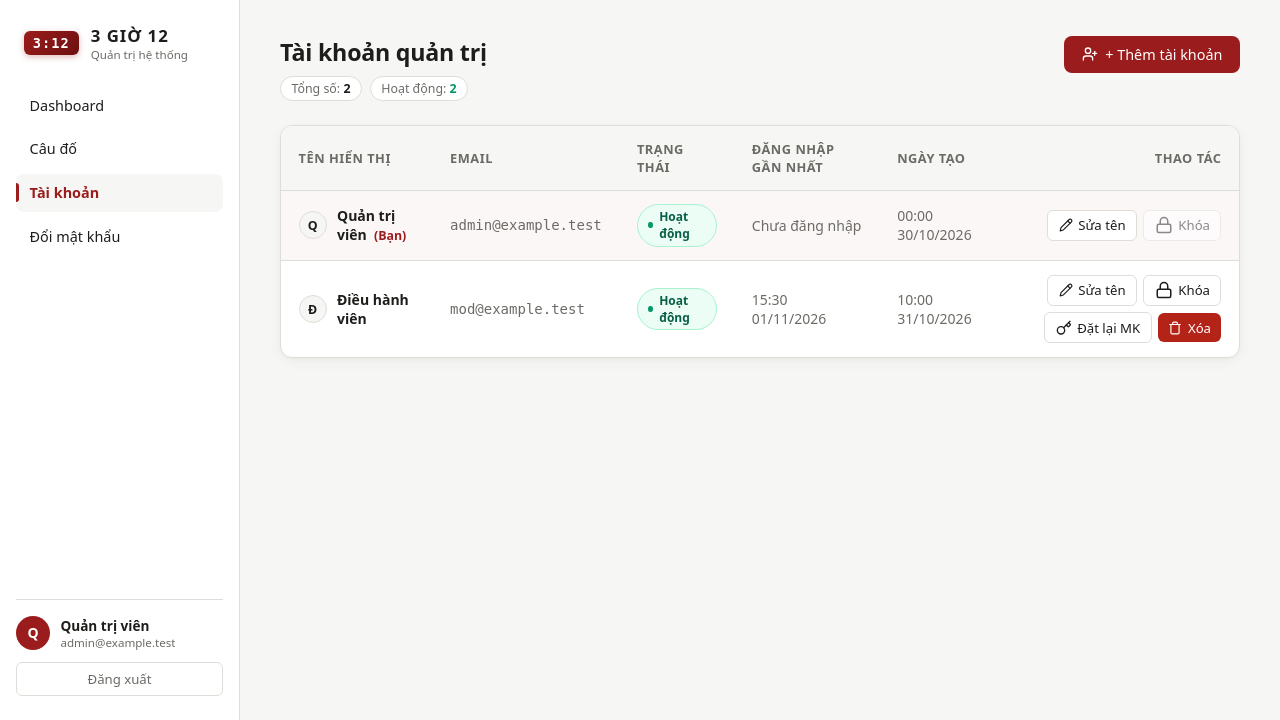
Test: AccountsPage: updates display name of an account
This screenshot has width=1280, height=720.
Expected: the heading "Tài khoản quản trị" is shown, [280,36,487,68]
Click the button "Sửa tên" in the row of "Điều hành viên". click: (1092, 290)
box: [1047,275,1137,306]
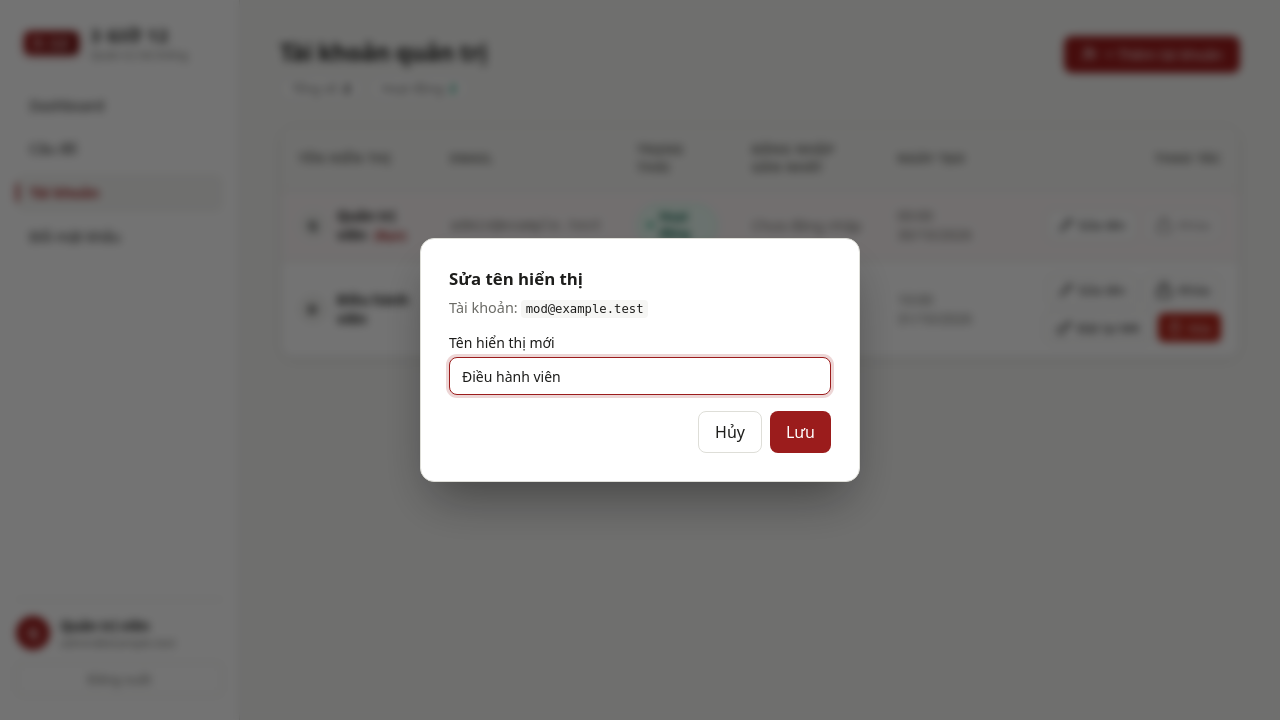
Expected: the heading "Sửa tên hiển thị" is shown, [449,267,583,290]
Replace the text in the field labelled "Tên hiển thị mới" with "Tên Đã Đổi". click: (640, 376)
box: [449,357,831,395]
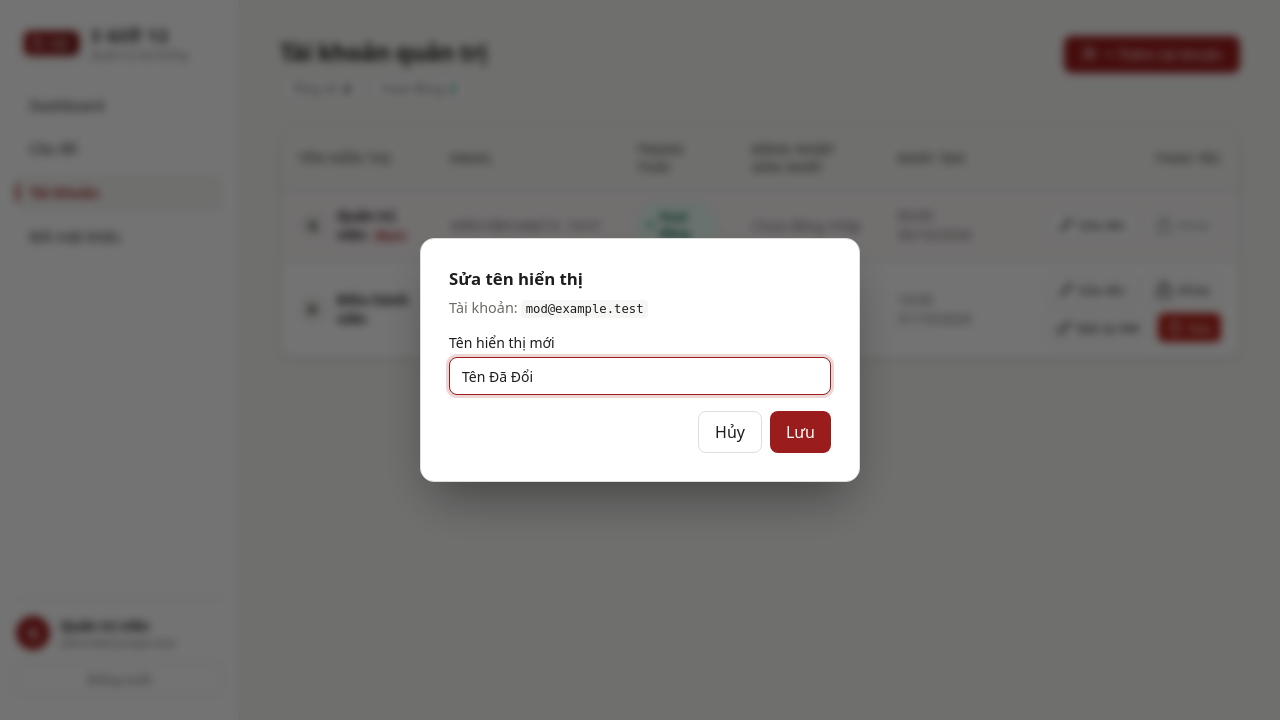
Click the button "Lưu". click: (800, 432)
box: [770,411,831,453]
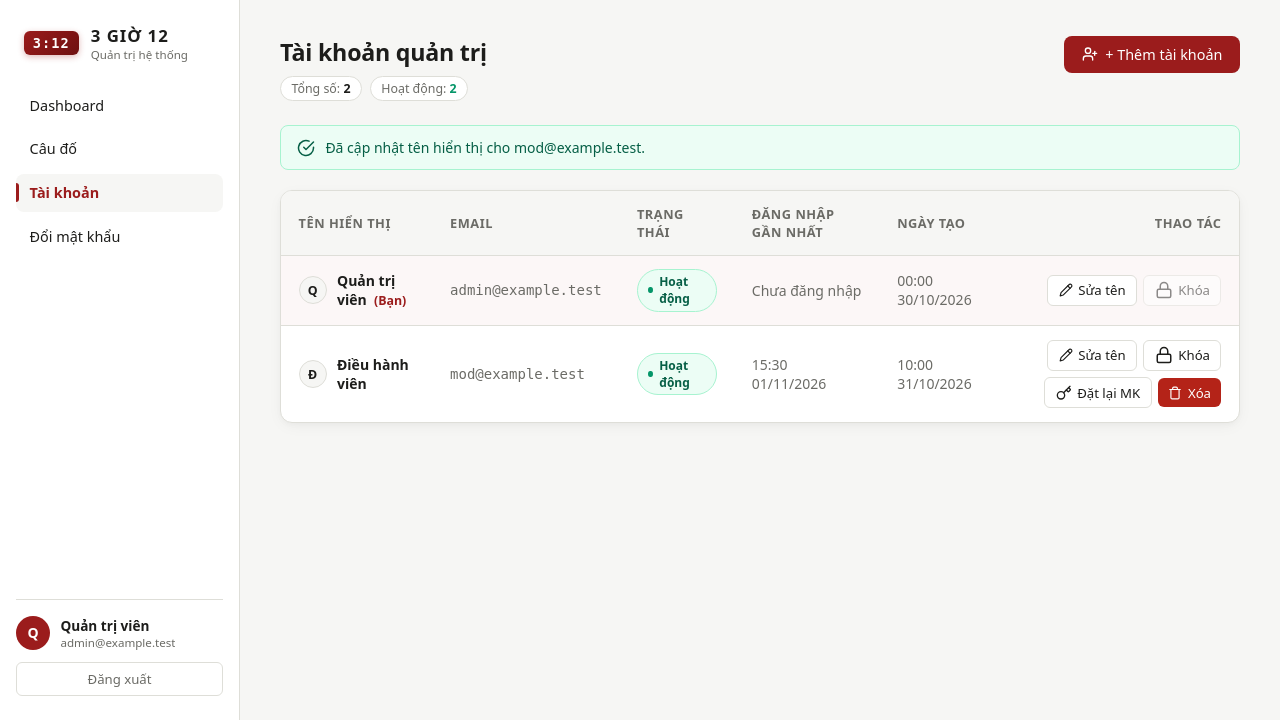
Expected: the message reads "Đã cập nhật tên hiển thị cho mod@example.test.", [325,138,645,157]
